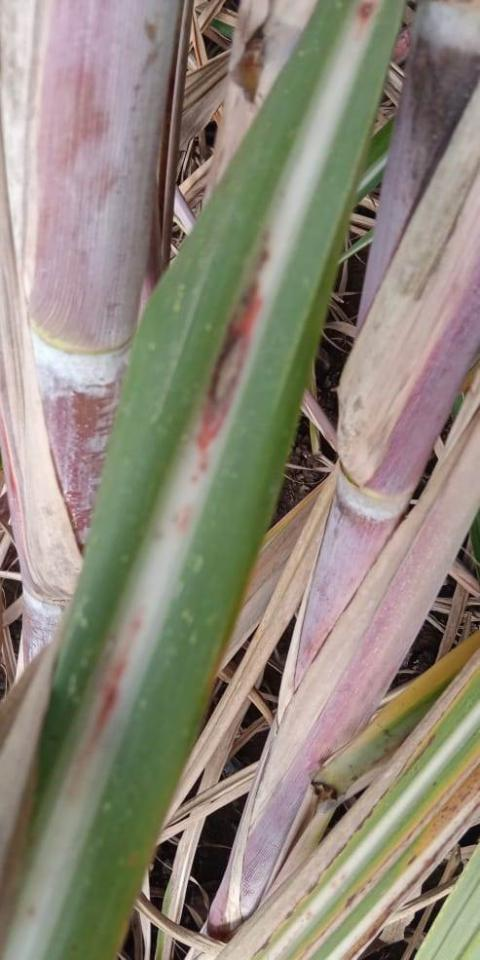RedRot: (173, 219, 278, 532), (60, 603, 147, 805), (351, 0, 378, 35)
